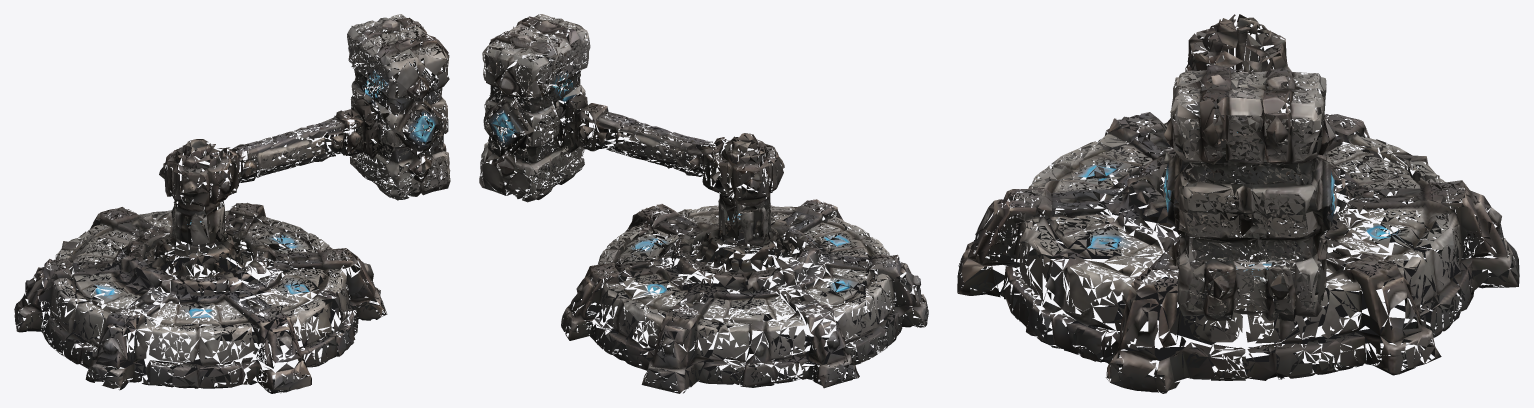
Rendered from Trap_Hammer.fbx.
3 renders of one model, left to right at view 1: azimuth 30°, elevation 25°; view 2: azimuth 150°, elevation 25°; view 3: azimuth 270°, elevation 25°, orthographic. The views are drawn at different scales.
Visible parts, largest first — view 1: Base, Arm; view 2: Base, Arm; view 3: Base, Arm.
Part boxes in pixels (bbox=[...]): Base: bbox=[14, 202, 387, 393]; Arm: bbox=[122, 14, 450, 283]; Base: bbox=[561, 199, 928, 393]; Arm: bbox=[479, 14, 820, 281]; Base: bbox=[957, 112, 1519, 393]; Arm: bbox=[1127, 14, 1344, 321].
Bounding box in the file's own units: 266 × 156 × 224.
1 material, 1 textured.
